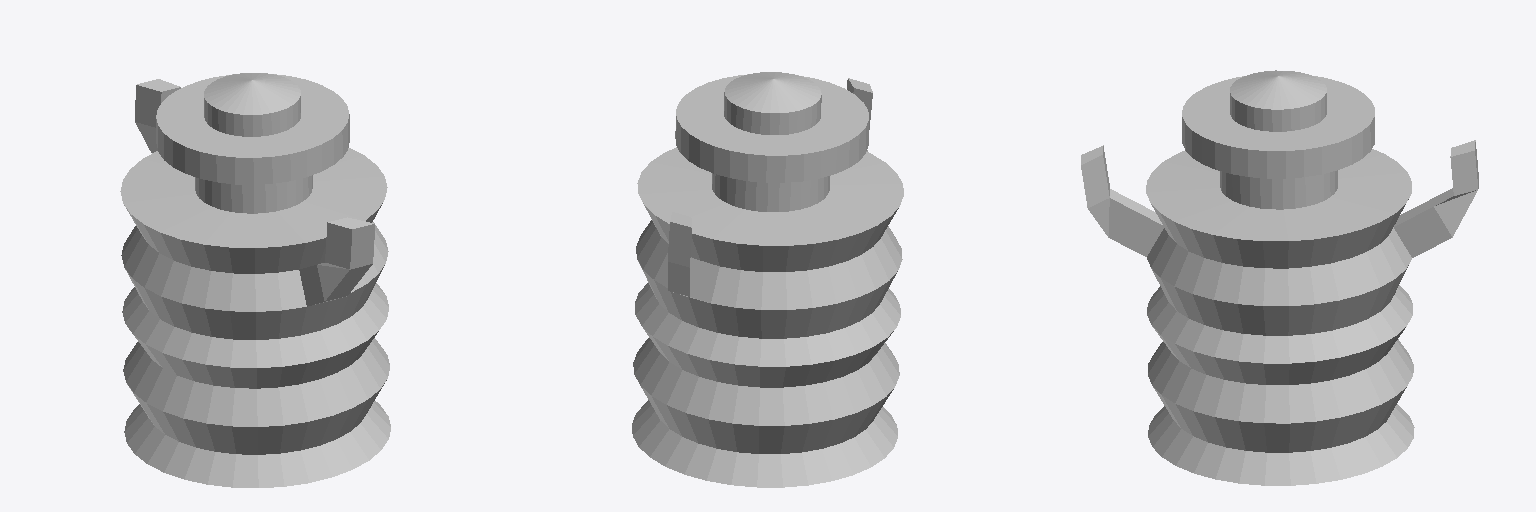
Rendered from temple.obj.
The picture shows the model from 3 angles: view 1: azimuth 30°, elevation 25°; view 2: azimuth 150°, elevation 25°; view 3: azimuth 270°, elevation 25°; orthographic projection.
Parts seen in each view (by area): view 1: Cylinder; view 2: Cylinder; view 3: Cylinder.
Part boxes in pixels (left/top/right/bottom): Cylinder: left=120, top=73, right=390, bottom=487; Cylinder: left=632, top=72, right=903, bottom=487; Cylinder: left=1081, top=70, right=1478, bottom=485.
Size of the model in its own units: 4.46 by 6.43 by 6.53.